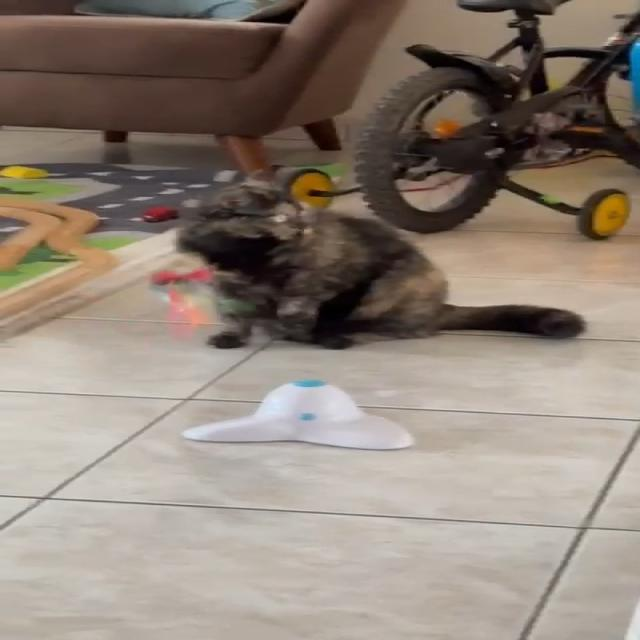authorized: (173, 182, 587, 350)
